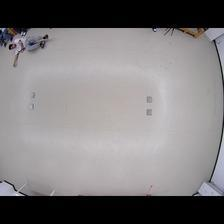fall: (8, 33, 50, 68)
